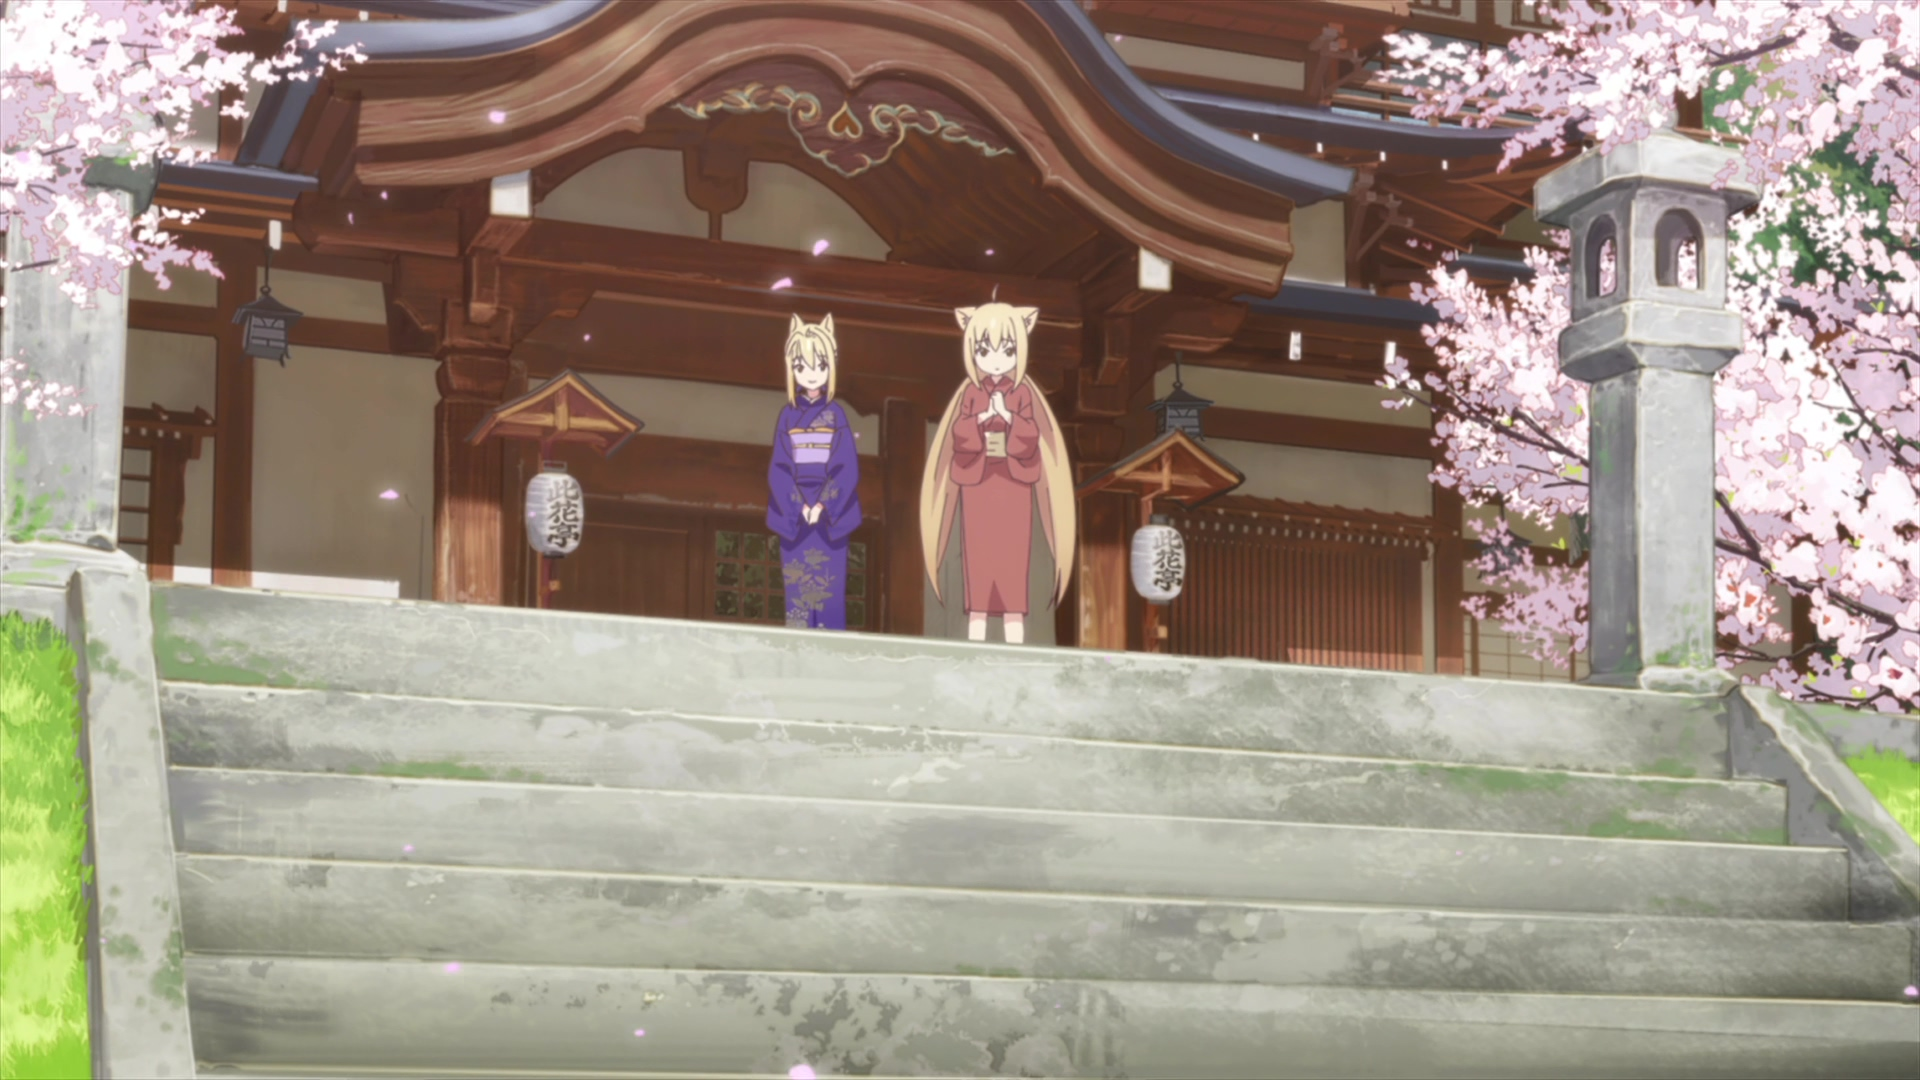柚: (919, 284, 1077, 644)
桐: (767, 311, 862, 628)
